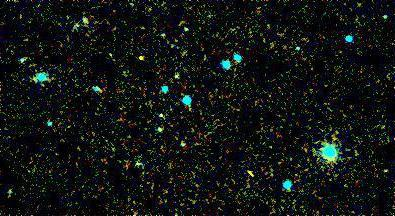star: (127, 39, 157, 69)
